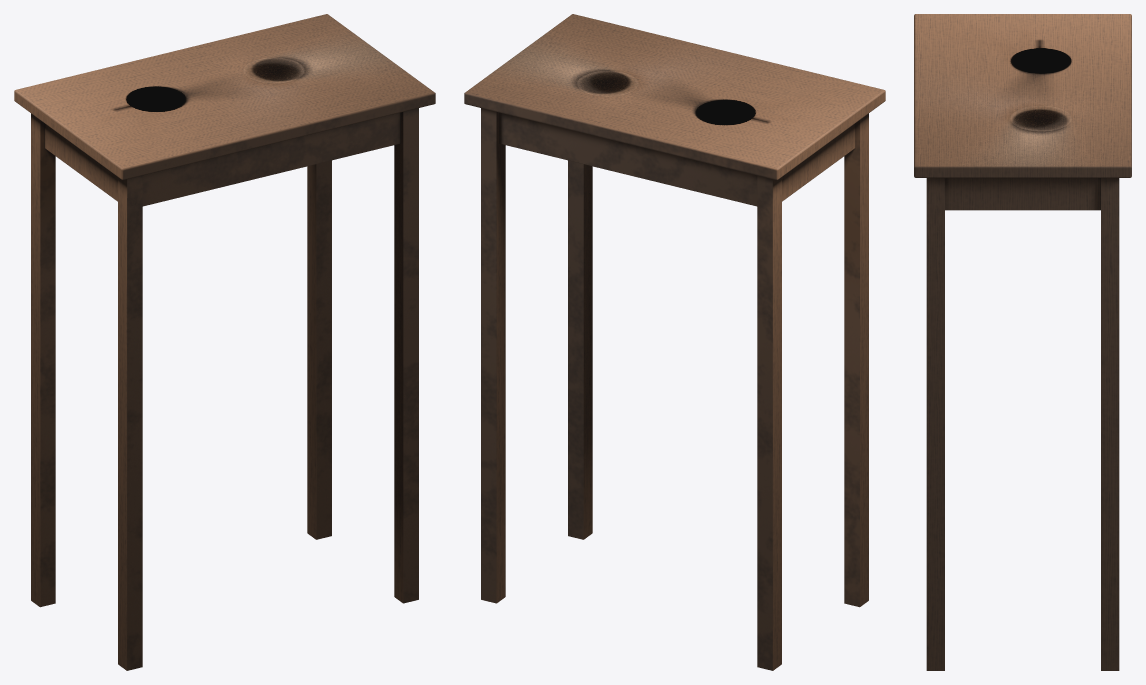
3 views of the same model, side by side, from view 1: azimuth 30°, elevation 25°; view 2: azimuth 150°, elevation 25°; view 3: azimuth 270°, elevation 25° (orthographic).
Visible parts, largest first — view 1: Table; view 2: Table; view 3: Table.
Boxes of the visible parts, <box> form: Table: <box>14,14,435,670</box>; Table: <box>464,14,885,670</box>; Table: <box>914,14,1131,670</box>.
Size of what is drawn, in the model's own units: 2 by 3.1 by 1.2.
1 material, 1 textured.
